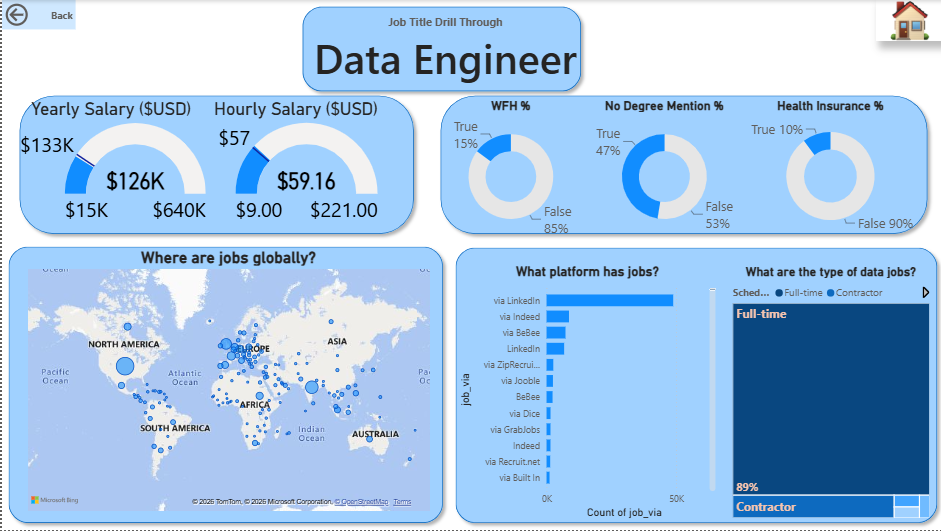

The page's visual inventory and layout, read from the dashboard file:
{"tool":"powerbi","page":{"name":"Job Title Drill Through","canvas":[1280,720],"ordinal":1},"visuals":[{"type":"shape","box":[607.8,327.5,672.2,391.9],"z":0},{"type":"shape","box":[0,326.1,607.8,393.3],"z":2000},{"type":"shape","box":[586.4,121.6,679.3,205.9],"z":3000},{"type":"shape","box":[14.3,121.6,553.5,205.9],"z":5000},{"type":"cardVisual","fields":{"Data":["Min(job_postings_flat.job_title_short)1"]},"box":[252,0,702.2,134.4],"z":6000},{"type":"actionButton","box":[0,0,100,40],"z":7000},{"type":"gauge","title":"Hourly Salary ($USD)","fields":{"Y":["Median(job_postings_flat.salary_hour_avg)"],"MinValue":["Min(job_postings_flat.salary_hour_avg)1"],"MaxValue":["Max(job_postings_flat.salary_hour_avg)2"],"TargetValue":["Avg(job_postings_flat.salary_hour_avg)3"]},"box":[282.2,134.9,232.6,180.3],"z":8000},{"type":"gauge","title":"Yearly Salary ($USD)","fields":{"Y":["Median(job_postings_flat.salary_year_avg)"],"MinValue":["Min(job_postings_flat.salary_year_avg)1"],"MaxValue":["Max(job_postings_flat.salary_year_avg)2"],"TargetValue":["Avg(job_postings_flat.salary_year_avg)3"]},"box":[13.8,134.9,268.4,180.3],"z":9000},{"type":"donutChart","title":"WFH %","fields":{"Category":["job_postings_flat.job_work_from_home"],"Y":["CountNonNull(job_postings_flat.job_work_from_home)"]},"box":[586.4,133,208.8,194.5],"z":10000},{"type":"donutChart","title":"No Degree Mention %","fields":{"Category":["job_postings_flat.job_no_degree_mention"],"Y":["CountNonNull(job_postings_flat.job_work_from_home)"]},"box":[795.2,133,210.2,194.5],"z":11000},{"type":"donutChart","title":"Health Insurance %","fields":{"Category":["job_postings_flat.job_health_insurance"],"Y":["CountNonNull(job_postings_flat.job_work_from_home)"]},"box":[1005.4,133,240.3,193.1],"z":12000},{"type":"map","title":"Where are jobs globally?","fields":{"Category":["job_postings_flat.job_country"],"Size":["CountNonNull(job_postings_flat.job_title_short)"]},"box":[30,337.5,556.3,361.8],"z":13000},{"type":"treemap","title":"What are the type of data jobs?","fields":{"Group":["job_postings_flat.job_schedule_type"],"Values":["CountNonNull(job_postings_flat.job_schedule_type)"]},"box":[988.2,359,277.5,350.4],"z":14000},{"type":"barChart","title":"What platform has jobs?","fields":{"Category":["job_postings_flat.job_via"],"Y":["CountNonNull(job_postings_flat.job_via)"]},"box":[616.4,357.5,357.5,351.8],"z":15000},{"type":"image","box":[1187.3,0,92.1,55.6],"z":16000}]}

Visuals, with their boxes in screenshot pixels (x1, y1, x2, y2), scaled from the page's 1280x720 canvas onto the 941x531 screenshot:
shape: locate(447, 242, 940, 530)
shape: locate(0, 240, 447, 530)
shape: locate(431, 90, 930, 242)
shape: locate(11, 90, 417, 242)
cardVisual - Min(job_postings_flat.job_title_short)1: locate(185, 0, 701, 99)
actionButton: locate(0, 0, 74, 30)
"Hourly Salary ($USD)" gauge: locate(207, 99, 378, 232)
"Yearly Salary ($USD)" gauge: locate(10, 99, 207, 232)
"WFH %" donutChart: locate(431, 98, 585, 242)
"No Degree Mention %" donutChart: locate(585, 98, 739, 242)
"Health Insurance %" donutChart: locate(739, 98, 916, 240)
"Where are jobs globally?" map: locate(22, 249, 431, 516)
"What are the type of data jobs?" treemap: locate(726, 265, 930, 523)
"What platform has jobs?" barChart: locate(453, 264, 716, 523)
image: locate(873, 0, 940, 41)
